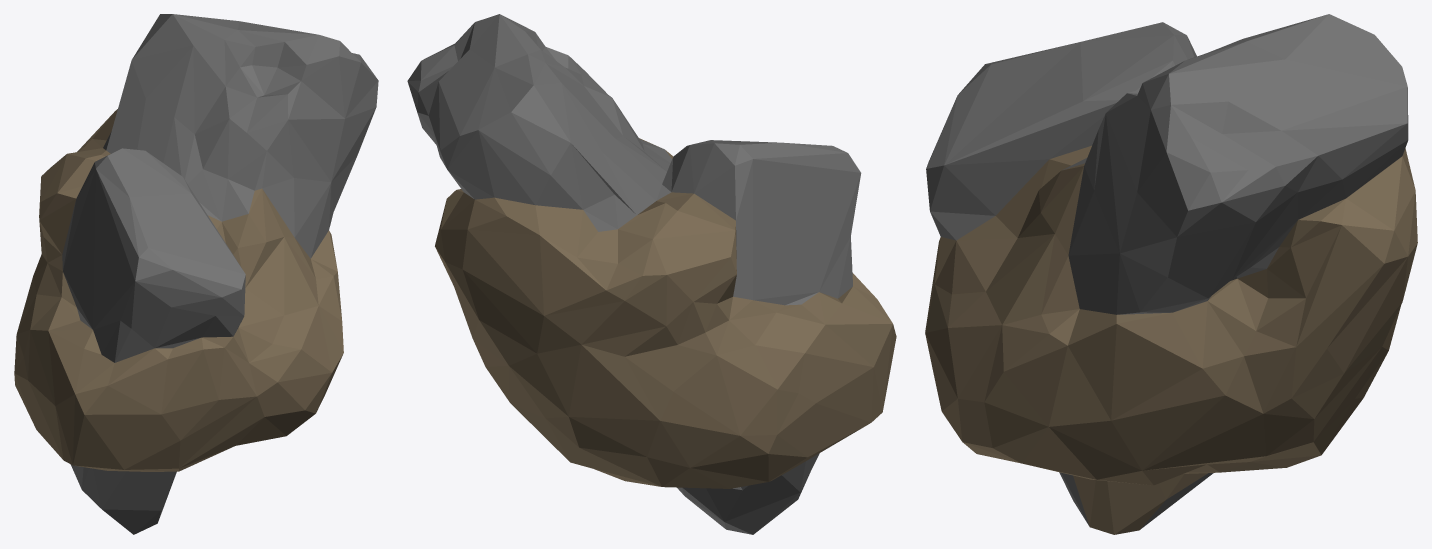
The model's file is SM_LP_StoneNode_3.fbx.
3 views of the same model, side by side, from view 1: azimuth 30°, elevation 25°; view 2: azimuth 150°, elevation 25°; view 3: azimuth 270°, elevation 25° (orthographic). The views are drawn at different scales.
Parts seen in each view (by area): view 1: SM_LP_StoneNode_3; view 2: SM_LP_StoneNode_3; view 3: SM_LP_StoneNode_3.
Boxes of the visible parts, x1=… form: SM_LP_StoneNode_3: x1=14, y1=14, x2=378, y2=534; SM_LP_StoneNode_3: x1=407, y1=14, x2=896, y2=534; SM_LP_StoneNode_3: x1=925, y1=14, x2=1417, y2=534.
Bounding box in the file's own units: 1.17 × 1.32 × 0.9826.
